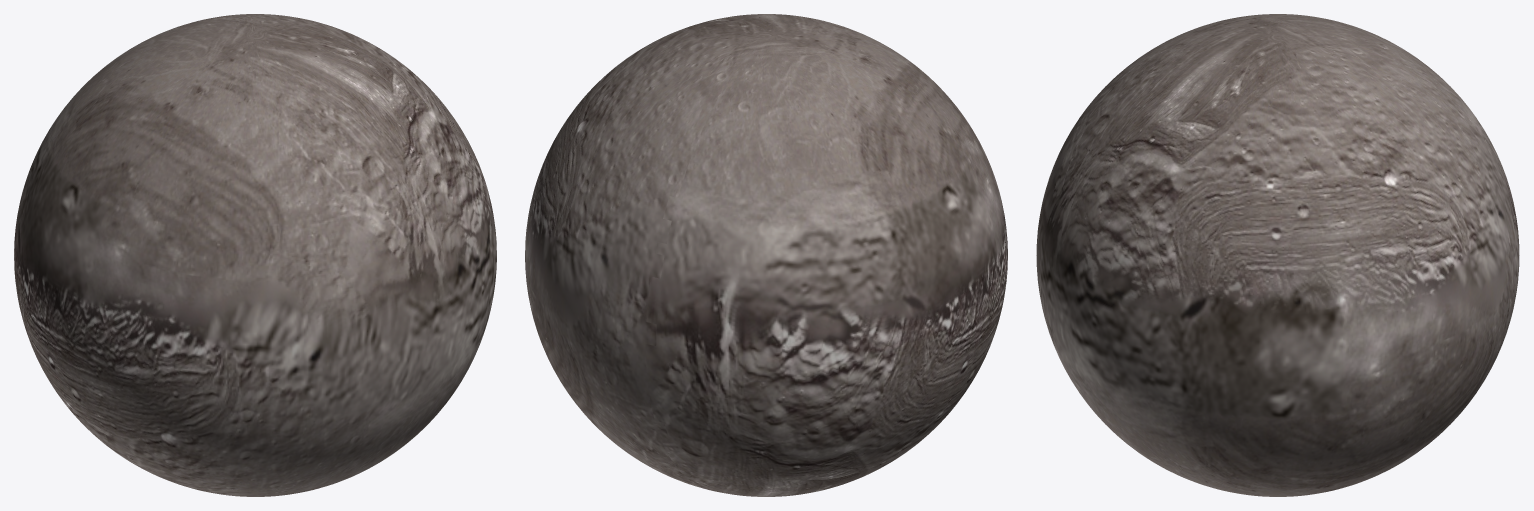
File: miranda.obj
3 renders of one model, left to right at view 1: azimuth 30°, elevation 25°; view 2: azimuth 150°, elevation 25°; view 3: azimuth 270°, elevation 25°, orthographic.
Parts seen in each view (by area): view 1: earth_Sphere; view 2: earth_Sphere; view 3: earth_Sphere.
Part boxes in pixels (left/top/right/bottom): earth_Sphere: left=14, top=14, right=496, bottom=496; earth_Sphere: left=525, top=14, right=1007, bottom=496; earth_Sphere: left=1036, top=14, right=1519, bottom=496.
Size of the model in its own units: 2 by 2 by 2.
Materials: 1 (1 with a texture image).
